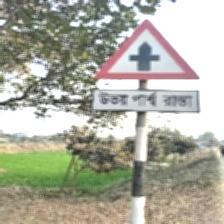Crossroad: (93, 19, 202, 115)
